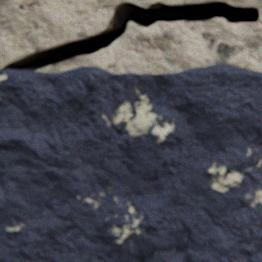brick: (0, 64, 261, 261)
crack: (2, 0, 260, 71)
